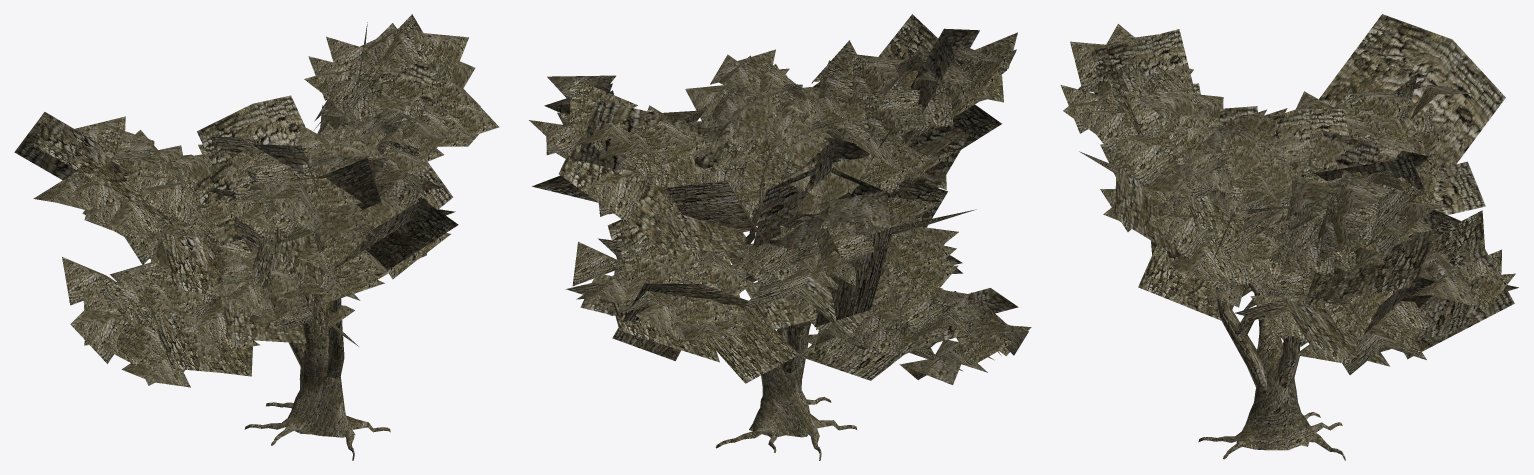
The model's file is oak_b_fall.dae.
3 views of the same model, side by side, from view 1: azimuth 30°, elevation 25°; view 2: azimuth 150°, elevation 25°; view 3: azimuth 270°, elevation 25° (orthographic). The views are drawn at different scales.
Visible parts, largest first — view 1: oak_fall_b; view 2: oak_fall_b; view 3: oak_fall_b.
Part boxes in pixels (left/top/right/bottom): oak_fall_b: left=14, top=14, right=499, bottom=460; oak_fall_b: left=529, top=14, right=1031, bottom=460; oak_fall_b: left=1060, top=14, right=1518, bottom=460.
Size of the model in its own units: 1728 by 1351 by 1549.
